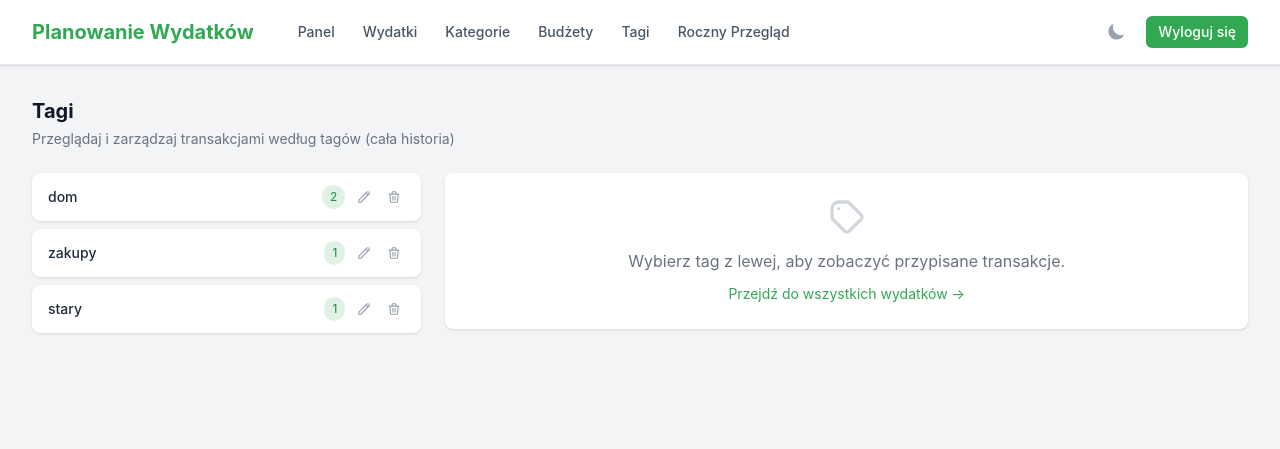
Test: rename › Anuluj closes without a request
Expected: the button "dom" is shown, [48,187,314,207]
Click the 1st button named "Zmień nazwę tagu".
click(364, 197)  # box [353,186,375,208]
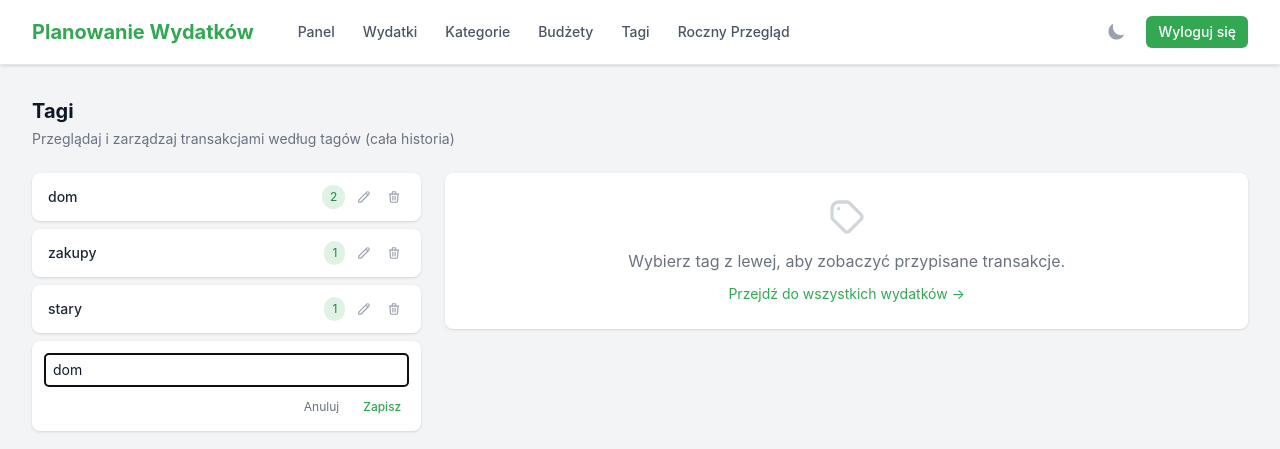
Type "house" into the field.
click(227, 370); type("house")  # box [44,353,409,387]
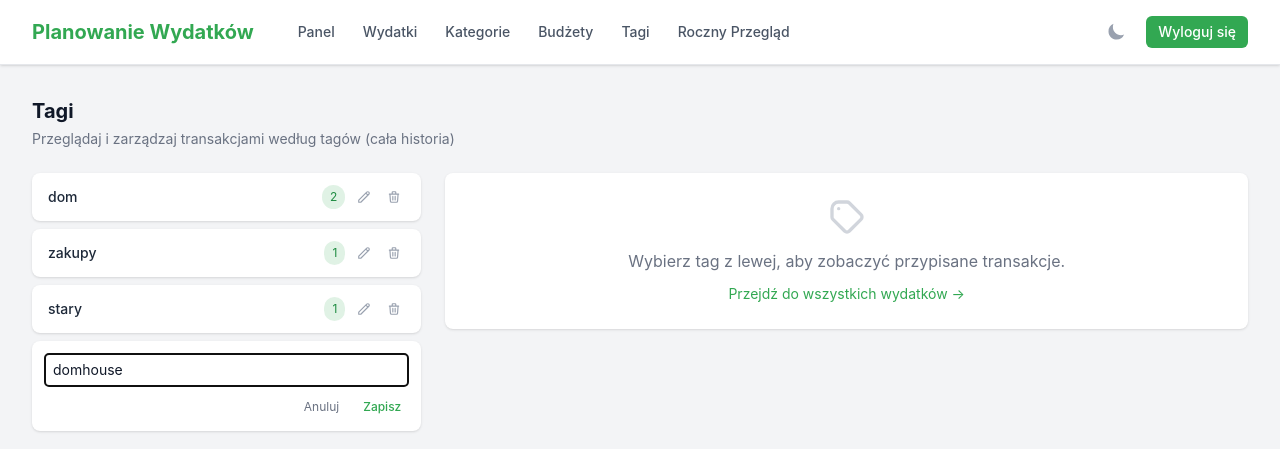
Click the button "Anuluj".
click(322, 407)  # box [296,395,347,419]
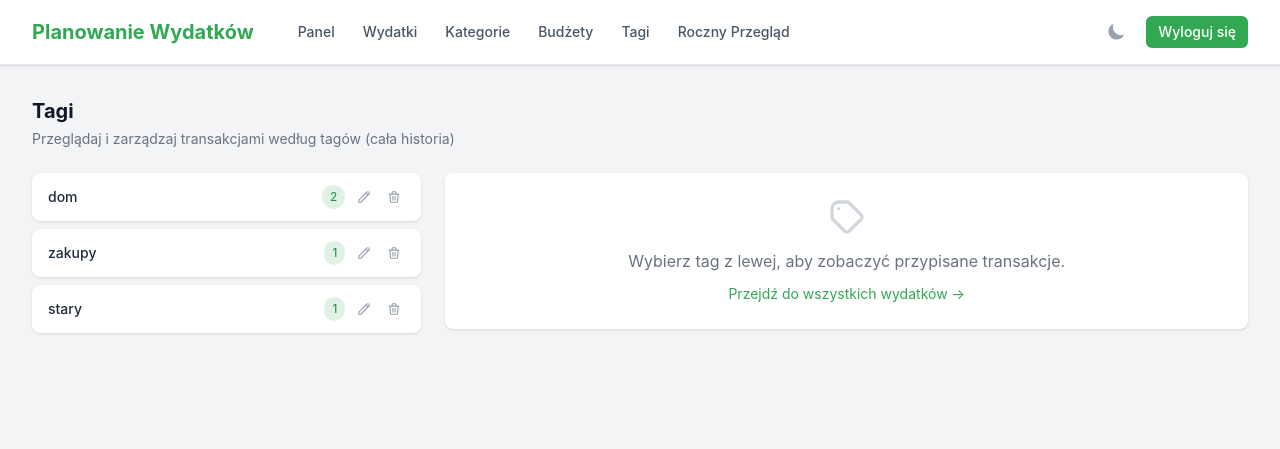
Result: the field is gone
